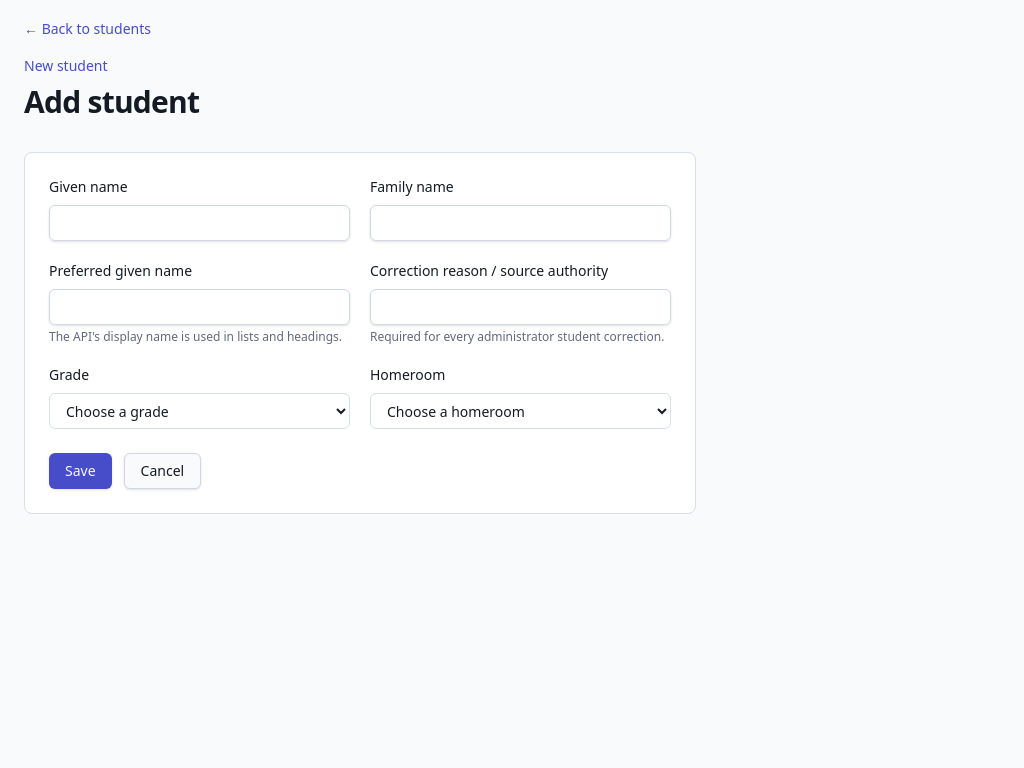
it: people roster pages › renders server field errors inline without client-side validation
Click the button "Save".
click(80, 471)  # box top-left (49, 453), bottom-right (112, 489)
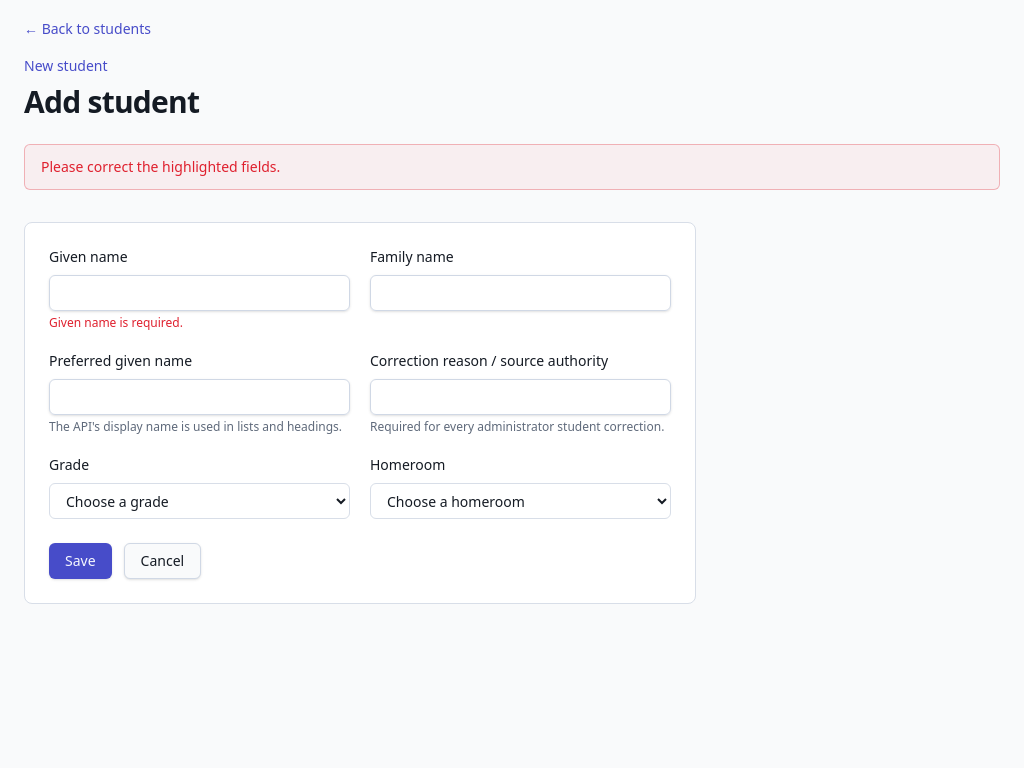
Result: the text "Given name is required." is shown at top-left (49, 314), bottom-right (183, 331)
Result: the message "Please correct the highlighted fields." is shown at top-left (24, 144), bottom-right (1000, 190)
